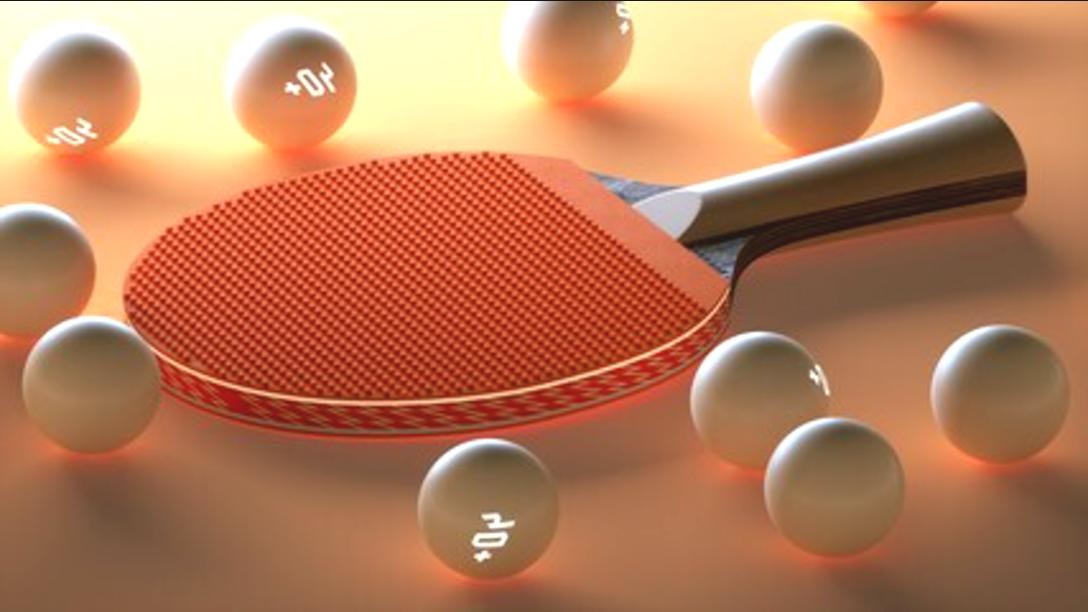Table-Tennis-Ball: (419, 438, 559, 577), (930, 321, 1068, 458), (692, 331, 831, 466), (23, 317, 162, 451), (765, 418, 903, 552), (749, 20, 885, 154), (228, 22, 356, 149), (16, 30, 140, 150), (503, 0, 633, 102), (0, 203, 94, 333)
